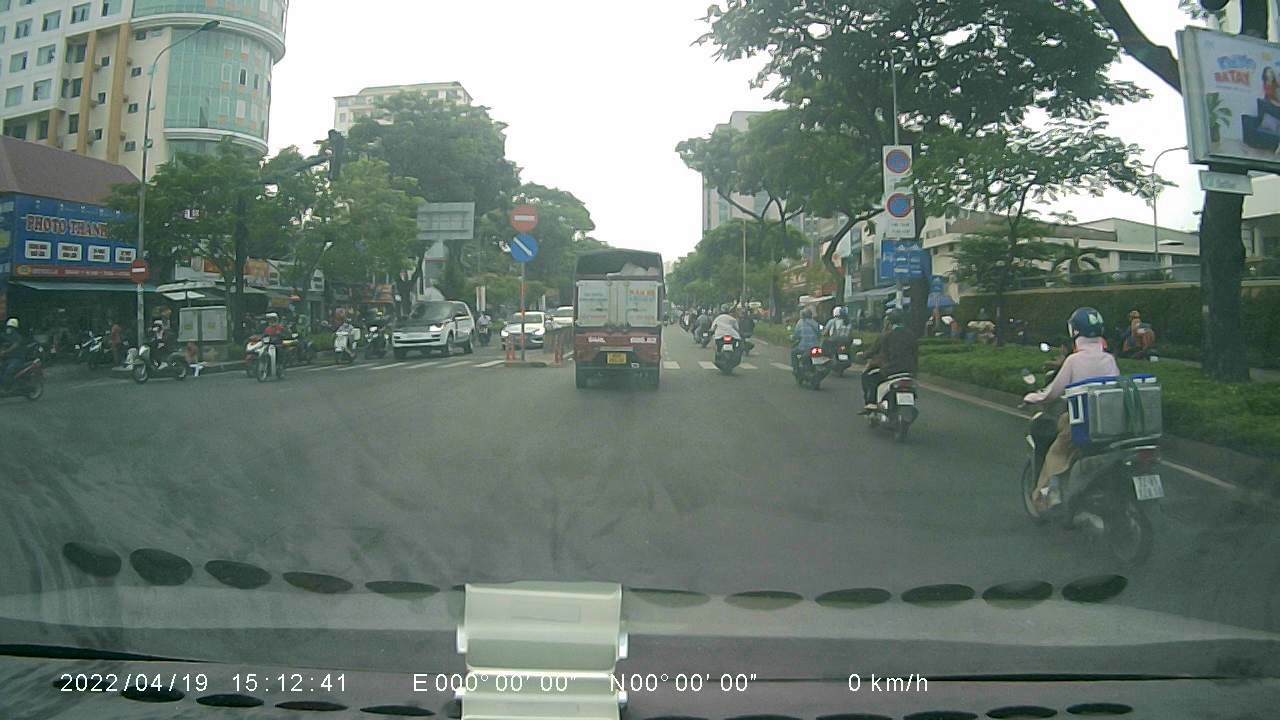Cam di nguoc chieu: (508, 203, 539, 233)
Huong di phai re phai: (506, 232, 539, 264)
